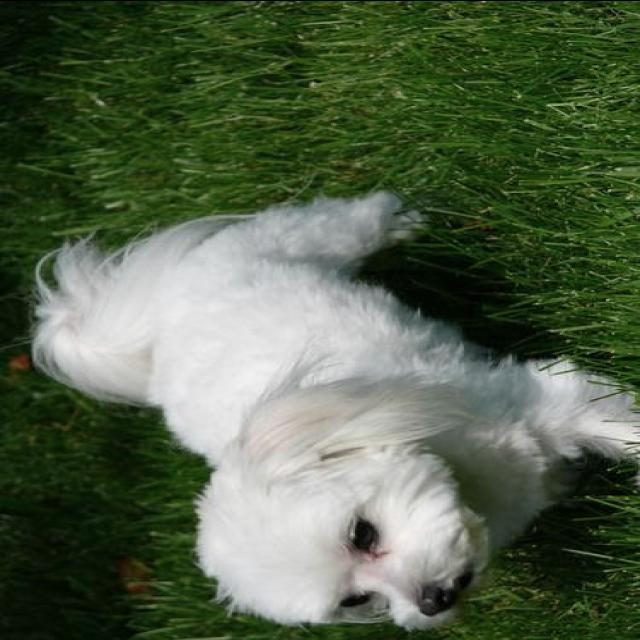maltese_dog: (27, 190, 638, 630)
